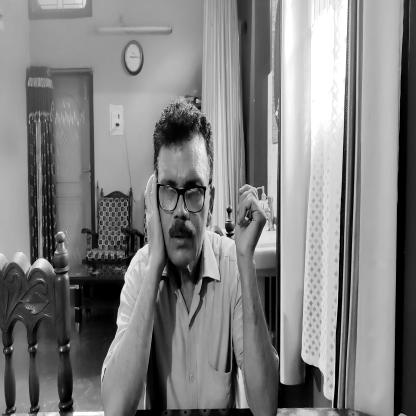Normal: (151, 100, 215, 275)
